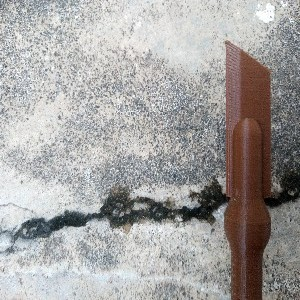cutter: (222, 37, 274, 300)
